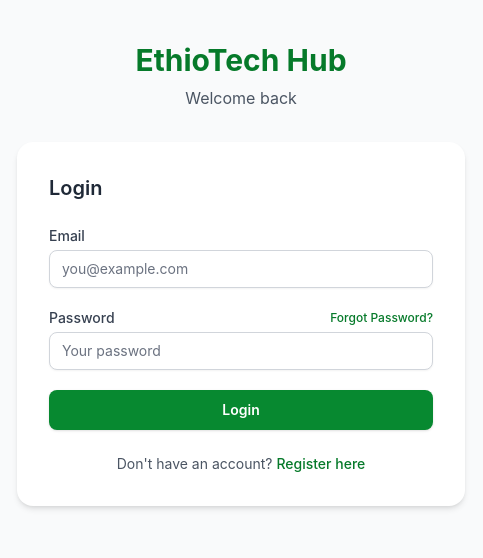
Scenario: LoginPage › shows API error on failed login
Type "user@example.com" into the field labelled "Email".
click(241, 269); type("user@example.com")  # box [49,250,433,288]
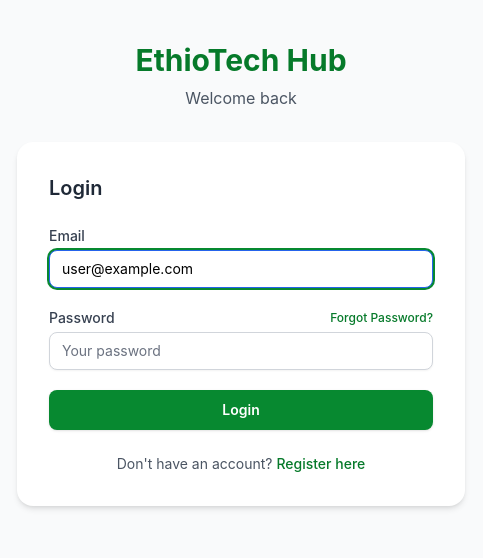
Type "wrongpassword" into the password field labelled "Password".
click(241, 351); type("wrongpassword")  # box [49,332,433,370]
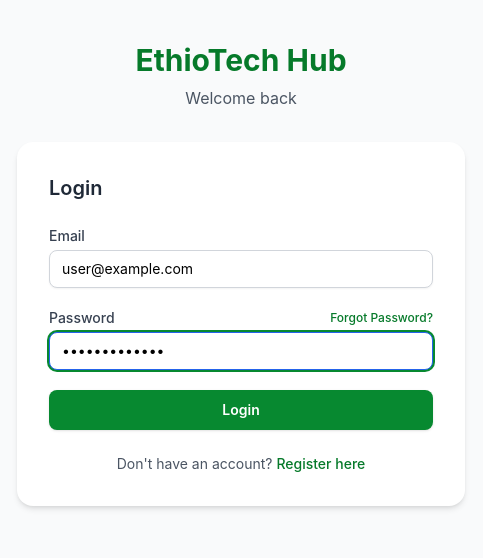
Click the button "Login".
click(241, 410)  # box [49,390,433,430]
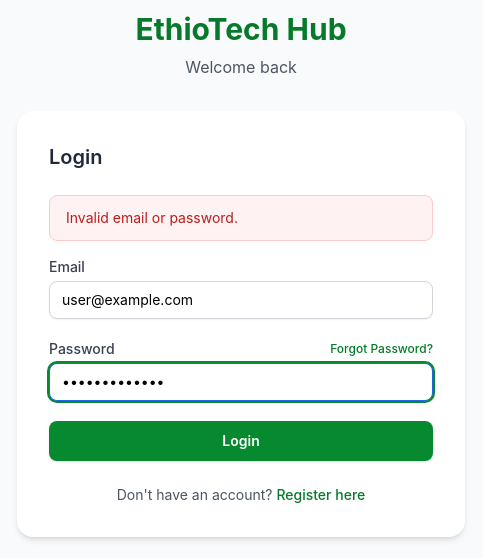
Now the text "Invalid email or password." is shown, box [49,195,433,241]
